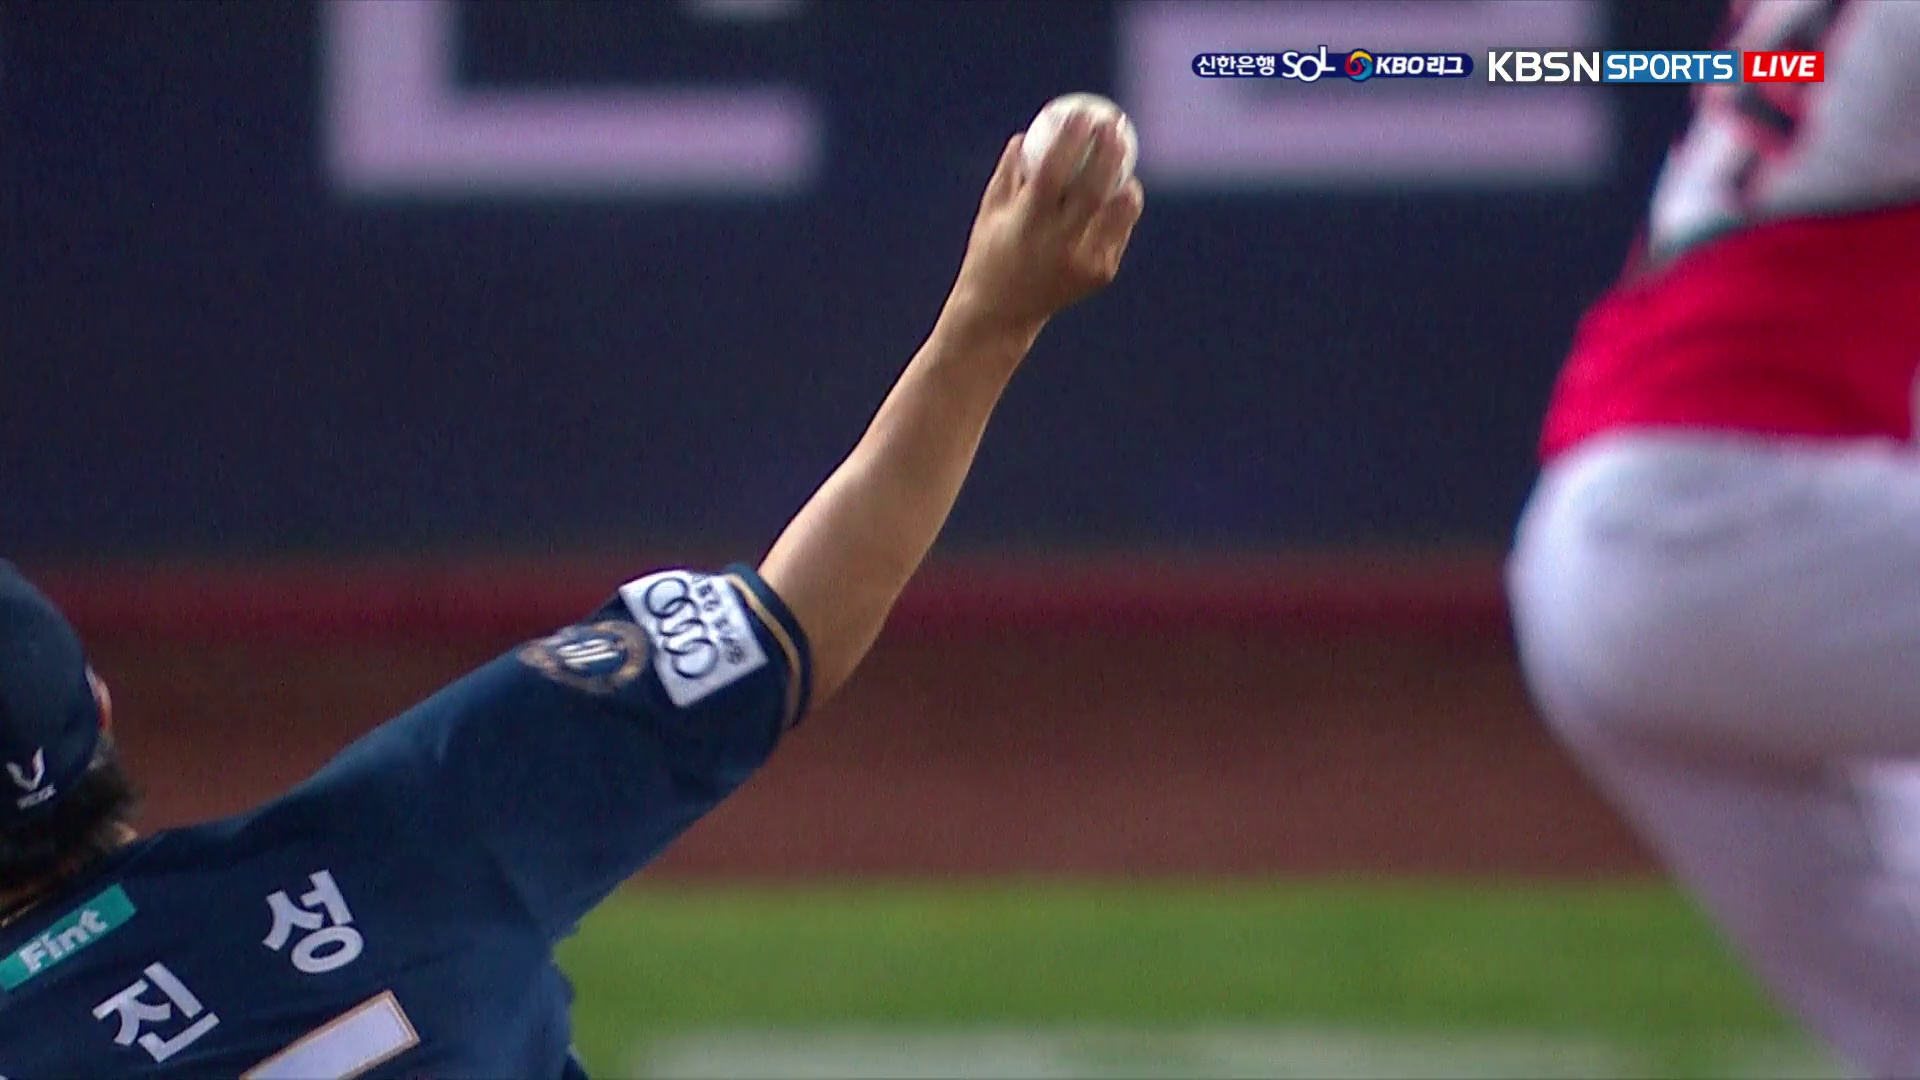zoomin_hand: (728, 86, 1153, 746)
